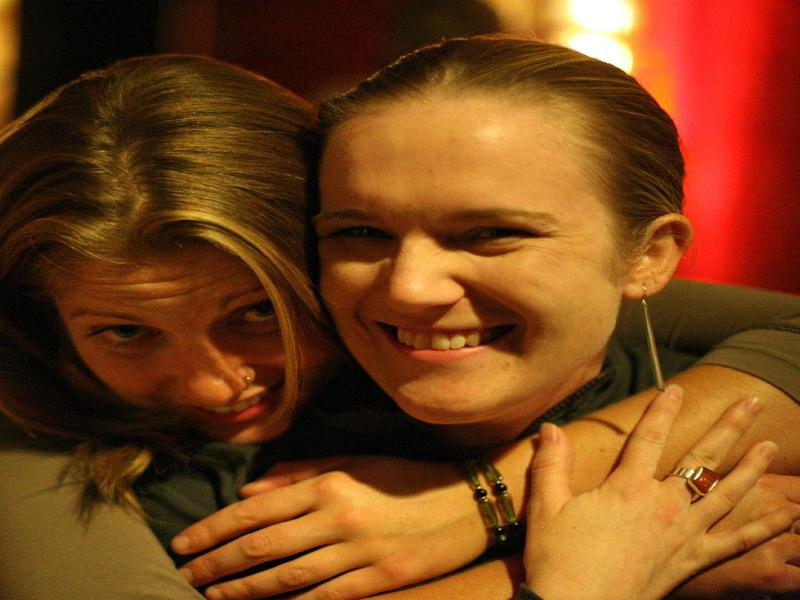person: (323, 35, 794, 600), (1, 53, 340, 600)
